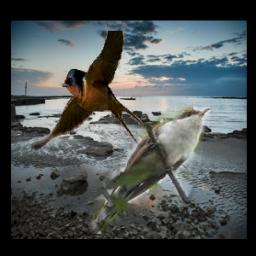Cuckoo: (88, 108, 211, 235)
Swallow: (29, 31, 145, 155)
